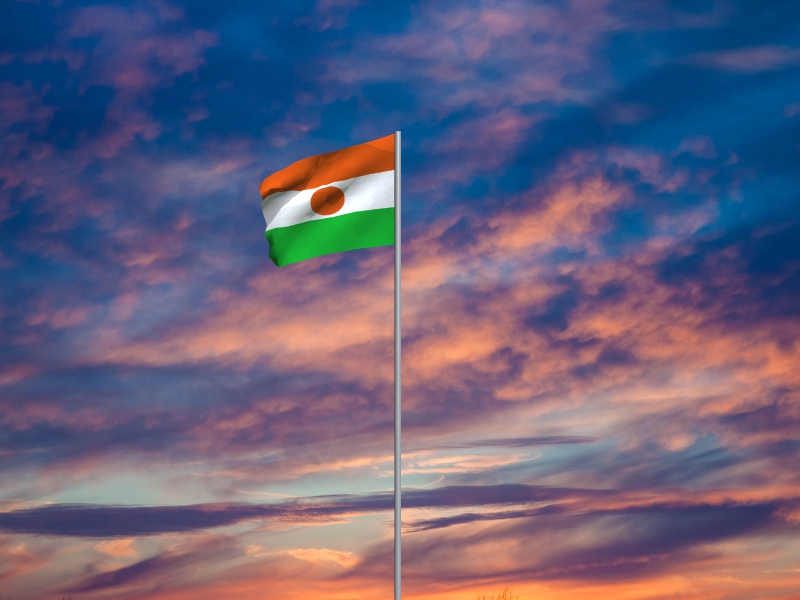ne: (258, 135, 395, 269)
